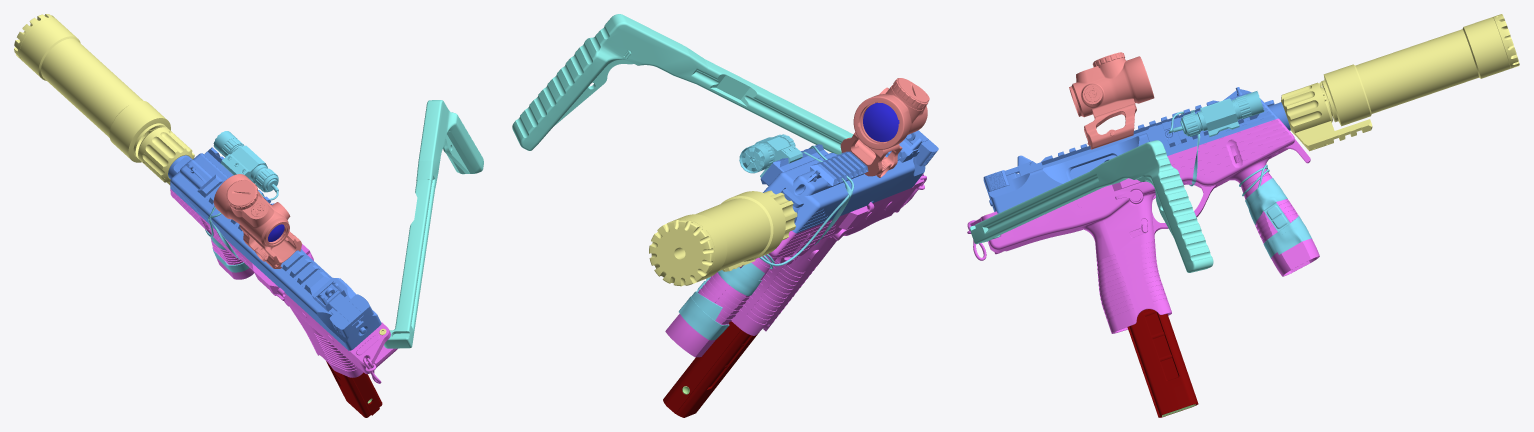
3 views of the same model, side by side, from view 1: azimuth 30°, elevation 25°; view 2: azimuth 150°, elevation 25°; view 3: azimuth 270°, elevation 25° (orthographic). The views are drawn at different scales.
Visible parts, largest first — view 1: salo_body_low.003, body_upper, body_lower_low.003, stok_body_low.003, stok_bashmak_low.003, body_scope_low.002, salo_main_low.003, magazine_body_low.003, scope_holder_low.004, laser_body_low.003, zatvor_low.003, scope_top_krutilka_01_low.002 (+1 smaller); view 2: stok_bashmak_low.003, body_upper, body_lower_low.003, salo_body_low.003, stok_body_low.003, magazine_body_low.003, salo_body_front_low.003, front_grip_low.003, body_scope_low.002, duct_tape_02_low.003, scope_holder_low.004, scope_lens_front_low.002 (+7 smaller); view 3: body_lower_low.003, salo_body_low.003, stok_bashmak_low.003, body_upper, magazine_body_low.003, body_scope_low.002, stok_body_low.003, front_grip_low.003, salo_main_low.003, salo_main_pipa_low.003, duct_tape_02_low.003, duct_tape_01_low.003 (+5 smaller).
Part boxes in pixels (x1=…): salo_body_low.003: x1=19, y1=19, x2=170, y2=162; body_upper: x1=170, y1=153, x2=381, y2=350; body_lower_low.003: x1=170, y1=189, x2=397, y2=377; stok_body_low.003: x1=384, y1=180, x2=435, y2=348; stok_bashmak_low.003: x1=416, y1=100, x2=483, y2=187; body_scope_low.002: x1=213, y1=174, x2=290, y2=247; salo_main_low.003: x1=138, y1=127, x2=194, y2=183; magazine_body_low.003: x1=326, y1=361, x2=382, y2=417; scope_holder_low.004: x1=239, y1=224, x2=300, y2=268; laser_body_low.003: x1=221, y1=145, x2=267, y2=182; zatvor_low.003: x1=329, y1=294, x2=373, y2=337; scope_top_krutilka_01_low.002: x1=227, y1=180, x2=256, y2=206; stok_bashmak_low.003: x1=512, y1=14, x2=707, y2=150; body_upper: x1=763, y1=130, x2=928, y2=233; body_lower_low.003: x1=731, y1=179, x2=923, y2=335; salo_body_low.003: x1=674, y1=191, x2=785, y2=281; stok_body_low.003: x1=696, y1=59, x2=853, y2=154; magazine_body_low.003: x1=663, y1=321, x2=759, y2=417; salo_body_front_low.003: x1=649, y1=219, x2=714, y2=286; front_grip_low.003: x1=665, y1=259, x2=769, y2=357; body_scope_low.002: x1=853, y1=85, x2=929, y2=149; duct_tape_02_low.003: x1=678, y1=291, x2=729, y2=340; scope_holder_low.004: x1=842, y1=132, x2=902, y2=176; scope_lens_front_low.002: x1=863, y1=102, x2=899, y2=141; body_lower_low.003: x1=970, y1=118, x2=1310, y2=333; salo_body_low.003: x1=1322, y1=17, x2=1510, y2=126; stok_bashmak_low.003: x1=1090, y1=140, x2=1213, y2=272; body_upper: x1=983, y1=89, x2=1278, y2=213; magazine_body_low.003: x1=1127, y1=309, x2=1198, y2=417; body_scope_low.002: x1=1069, y1=56, x2=1154, y2=118; stok_body_low.003: x1=969, y1=171, x2=1103, y2=243; front_grip_low.003: x1=1242, y1=174, x2=1319, y2=276; salo_main_low.003: x1=1281, y1=82, x2=1332, y2=135; salo_main_pipa_low.003: x1=1295, y1=119, x2=1372, y2=151; duct_tape_02_low.003: x1=1263, y1=216, x2=1311, y2=258; duct_tape_01_low.003: x1=1245, y1=178, x2=1287, y2=225.
Size of the model in its own units: 36.89 by 35.53 by 55.08.
